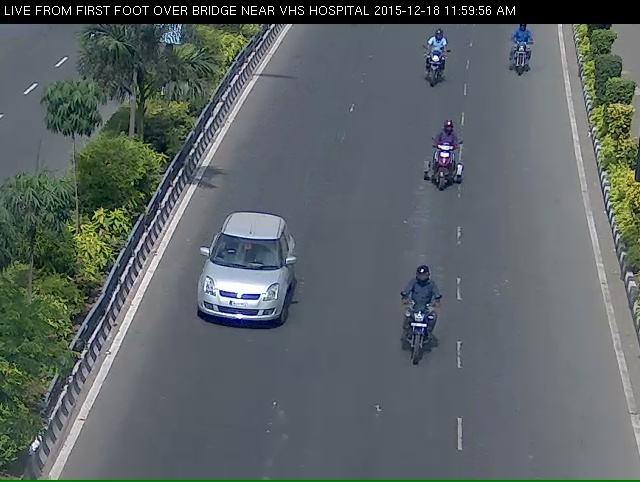Car: (190, 238, 293, 369)
Person: (400, 280, 440, 397), (425, 134, 467, 214), (506, 24, 537, 84), (421, 42, 446, 99)
